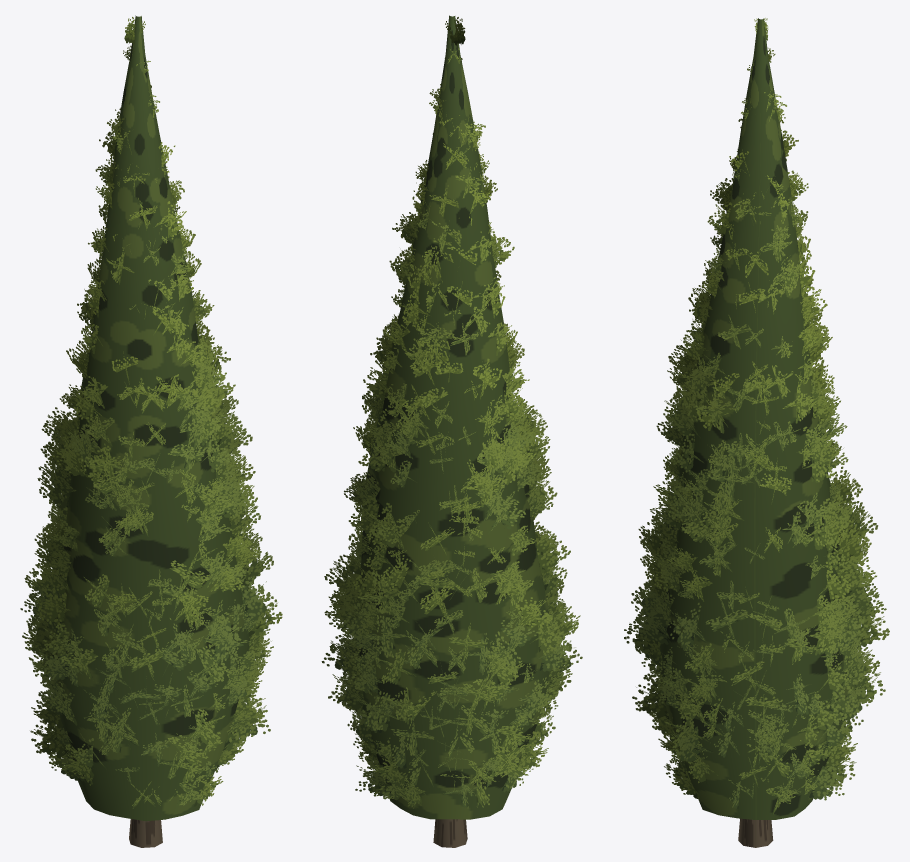
3 views of the same model, side by side, from view 1: azimuth 30°, elevation 25°; view 2: azimuth 150°, elevation 25°; view 3: azimuth 270°, elevation 25° (orthographic).
Visible parts, largest first — view 1: Mesh_cypress; view 2: Mesh_cypress; view 3: Mesh_cypress.
Part boxes in pixels (x1,y1,x2,y2): Mesh_cypress: [20, 15, 282, 847]; Mesh_cypress: [321, 15, 582, 847]; Mesh_cypress: [624, 18, 889, 847].
Size of the model in its own units: 1.88 by 6.2 by 1.91.
1 material, 1 textured.
